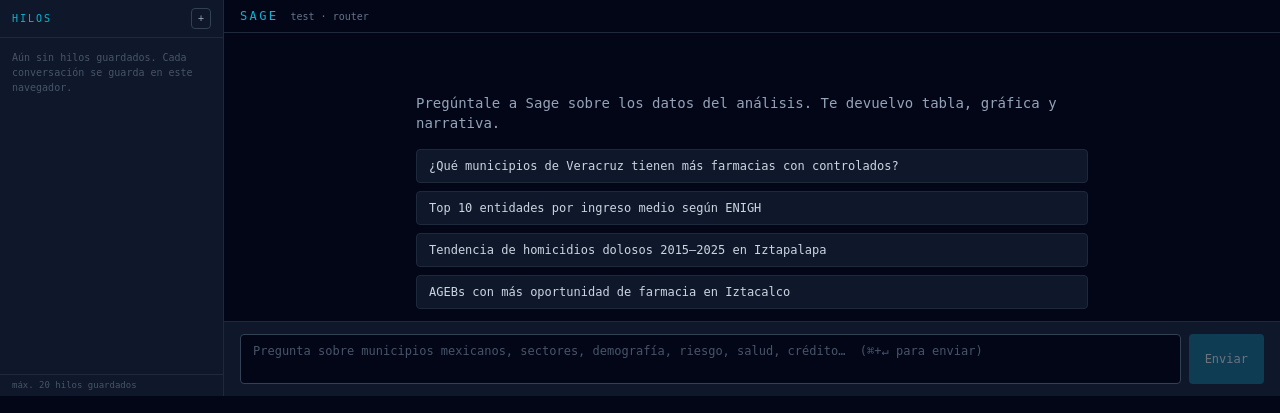
Test case: SageMode error codes (#185) › maps a 503 whose message has no digits
Click the 2nd button.
click(752, 166)  # box [416,149,1088,183]
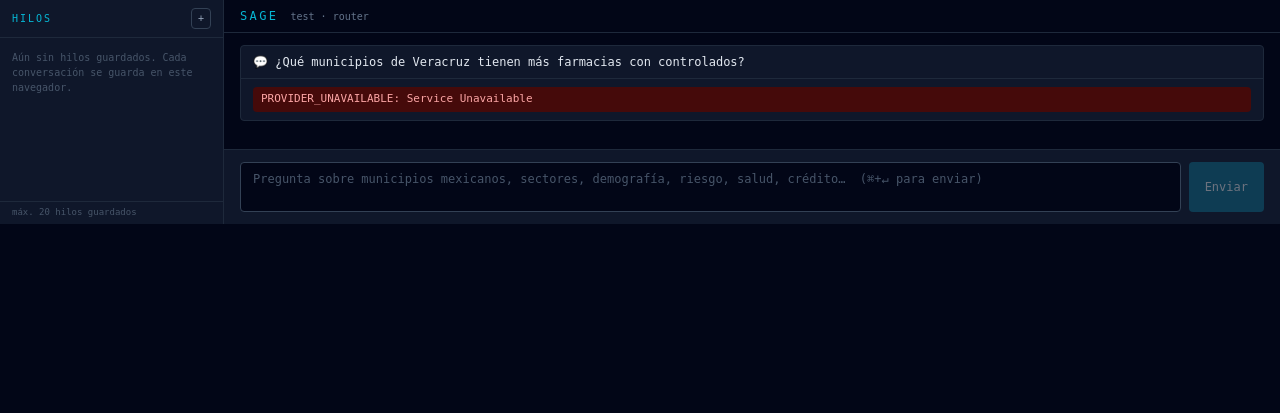
Expected: the text "PROVIDER_UNAVAILABLE: Service Unavailable" is shown, [253,87,1251,112]
